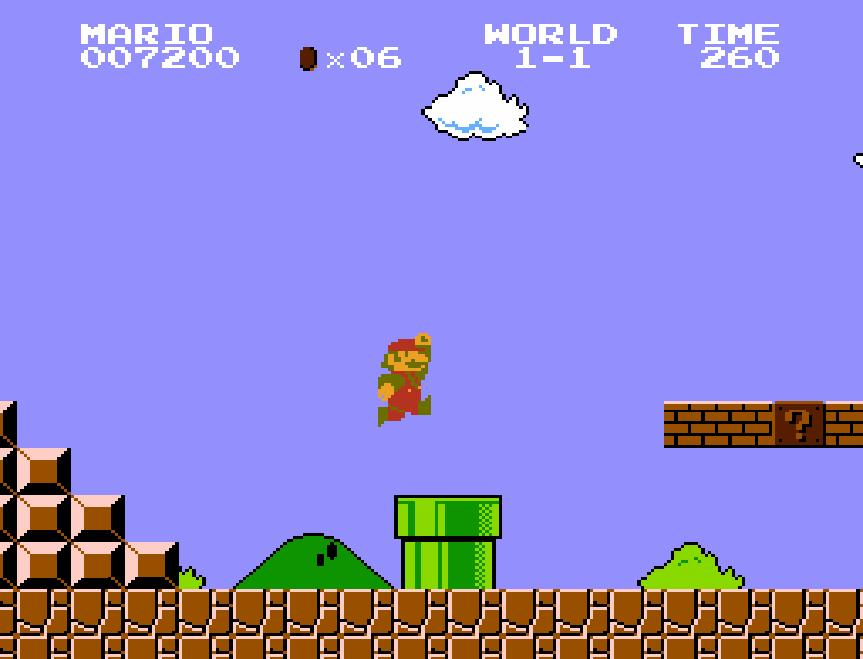big_mario: (376, 330, 434, 429)
